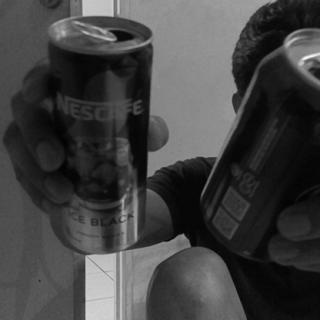alumunium_can: (201, 29, 320, 263), (46, 14, 152, 254)
